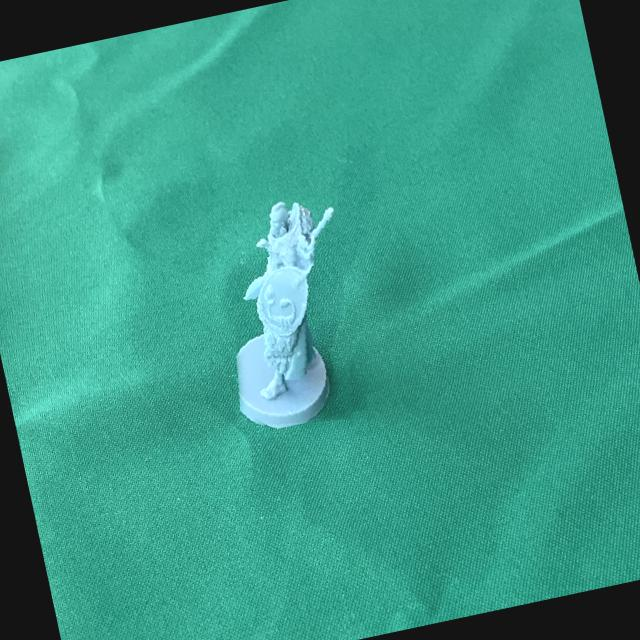isis_follower: (202, 179, 376, 437)
